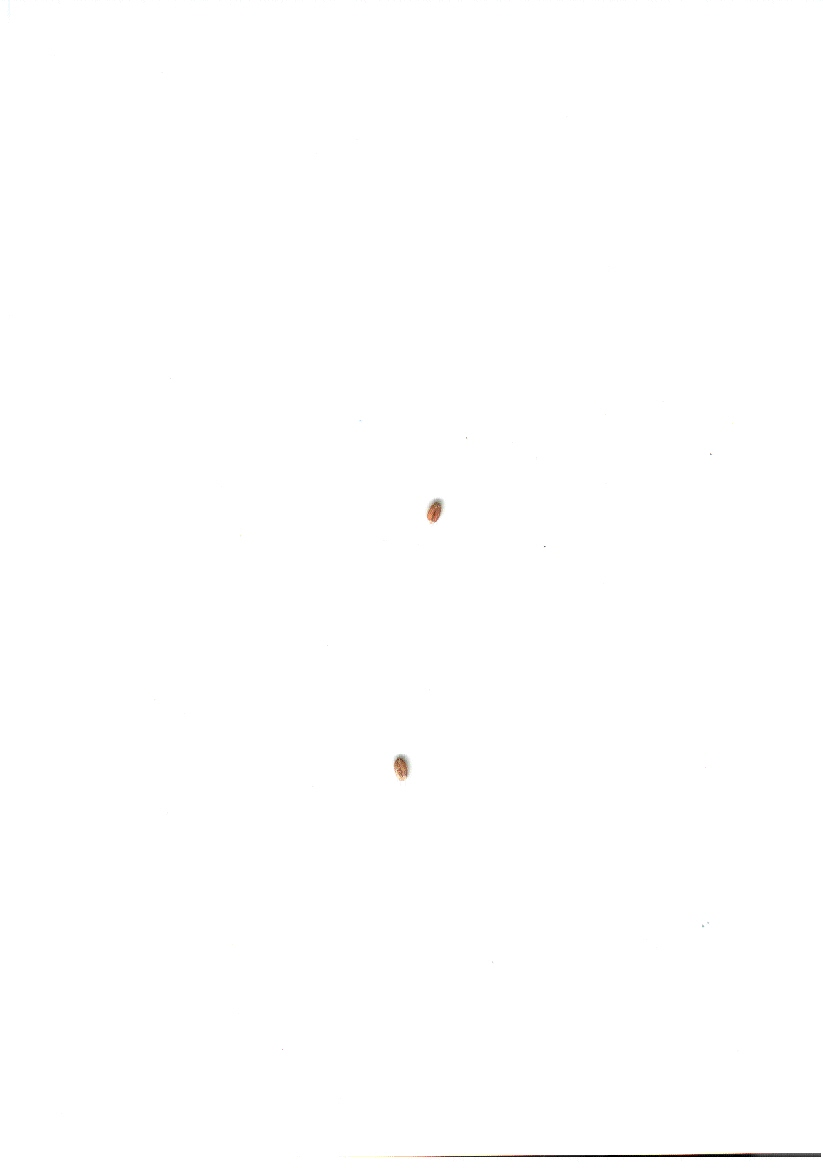grains: (384, 741, 423, 797), (416, 492, 455, 534)
